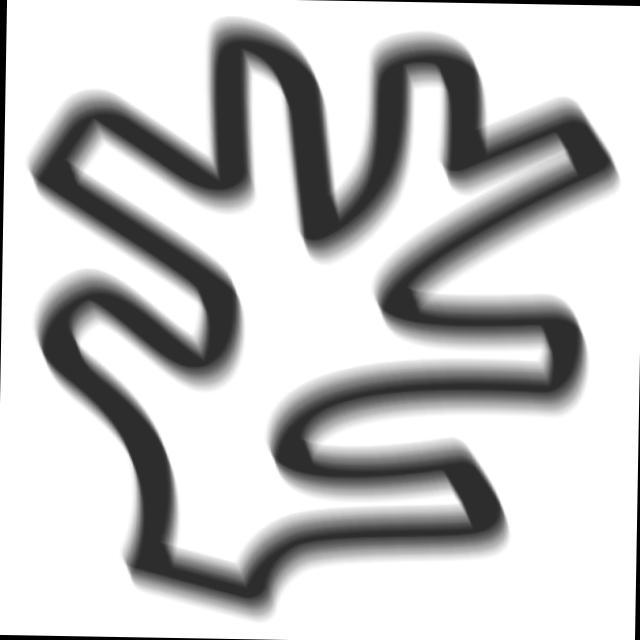coral: (13, 5, 634, 639)
